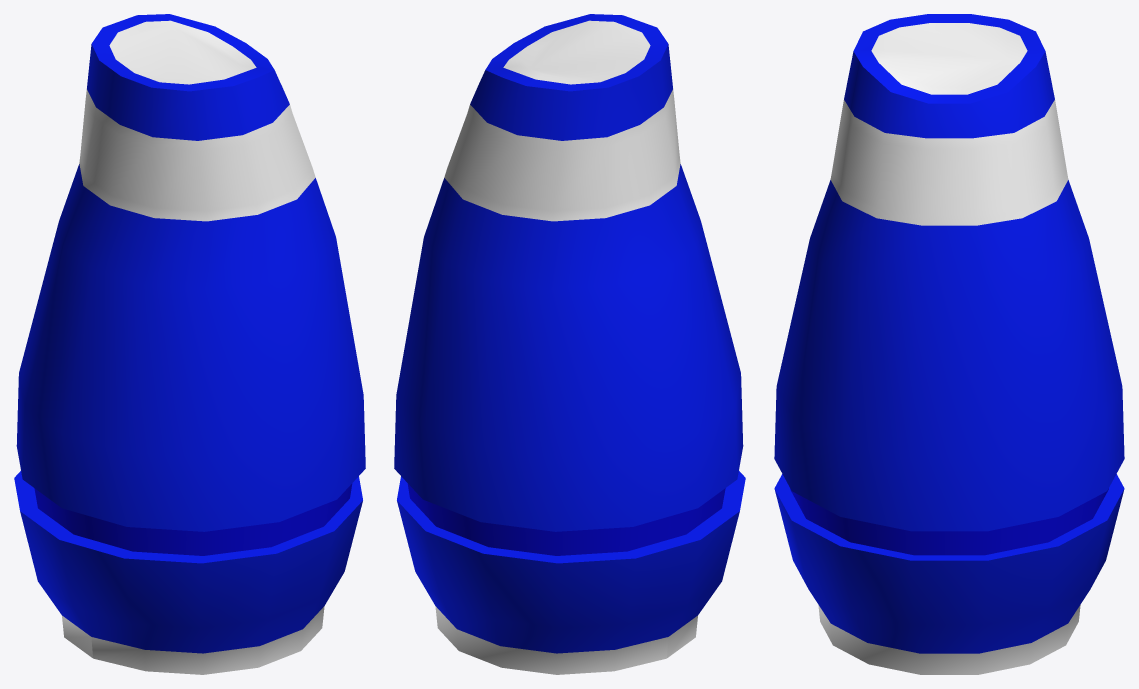
File: Airfreshener.fbx
The picture shows the model from 3 angles, left to right: view 1: azimuth 30°, elevation 25°; view 2: azimuth 150°, elevation 25°; view 3: azimuth 270°, elevation 25°; orthographic projection.
Visible parts, largest first — view 1: Lid, Airfreshner; view 2: Lid, Airfreshner; view 3: Lid, Airfreshner.
Part boxes in pixels (box(x1,y1,x2,y2)): Lid: box(16, 14, 365, 555); Airfreshner: box(14, 471, 362, 674); Lid: box(394, 14, 743, 555); Airfreshner: box(397, 471, 745, 674); Lid: box(774, 14, 1124, 555); Airfreshner: box(774, 474, 1124, 674).
Size of the model in its own units: 3.54 by 6.43 by 3.6.
